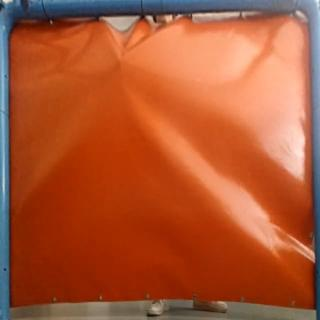Hit-hRxx: (114, 54, 124, 64)
